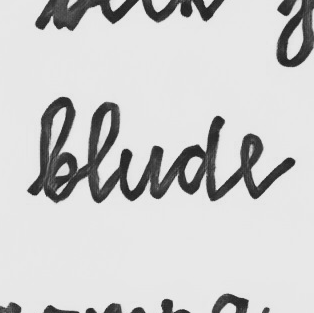b: (36, 94, 80, 206)
d: (172, 114, 228, 201)
e: (236, 131, 288, 200)
l: (84, 100, 122, 206)
u: (117, 144, 166, 202)
